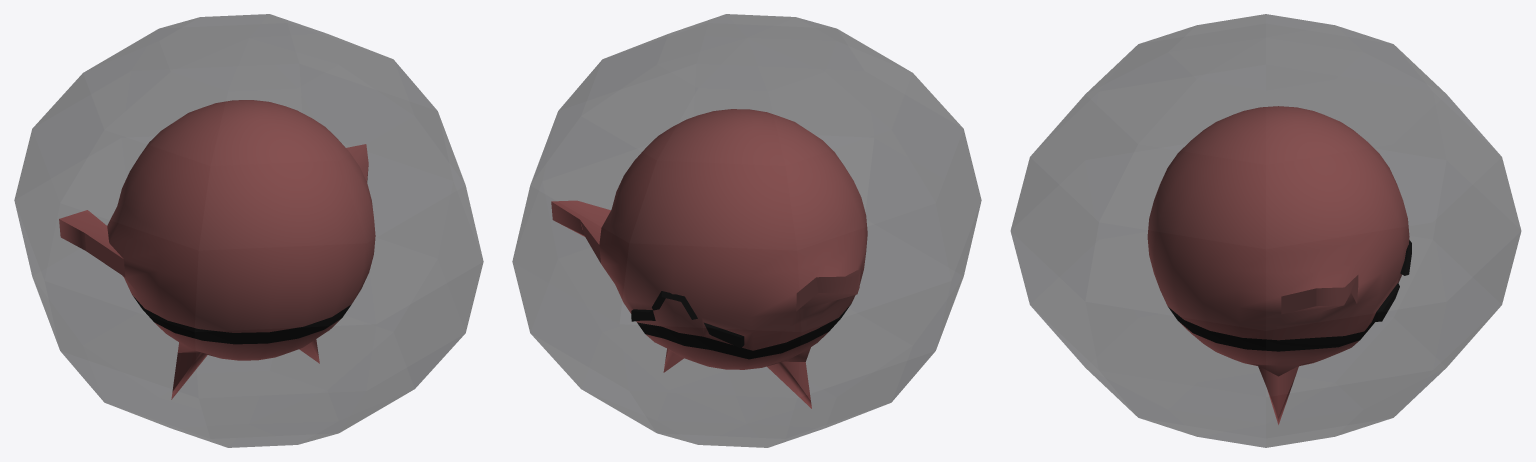
Rendered from virus_diablo_sphere.fbx.
3 views of the same model, side by side, from view 1: azimuth 30°, elevation 25°; view 2: azimuth 150°, elevation 25°; view 3: azimuth 270°, elevation 25° (orthographic).
Visible parts, largest first — view 1: virus_diablo_2_sphere; view 2: virus_diablo_2_sphere; view 3: virus_diablo_2_sphere.
Boxes of the visible parts, <box> form: virus_diablo_2_sphere: <box>14,14,483,447</box>; virus_diablo_2_sphere: <box>512,14,981,447</box>; virus_diablo_2_sphere: <box>1010,14,1521,447</box>.
Size of the model in its own units: 2.4 by 2.16 by 2.59.
